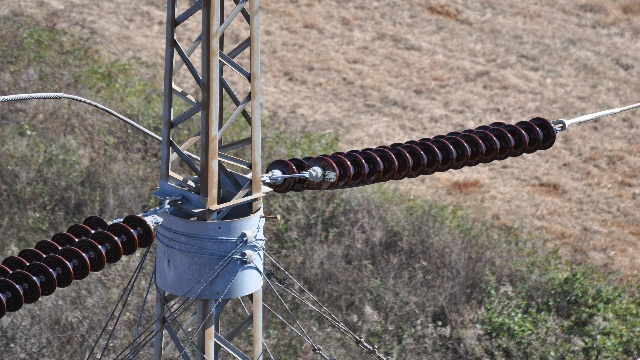insulator_unspecified: (266, 117, 556, 194), (0, 214, 155, 317)
pollution_flashover_local: (323, 170, 336, 182)
